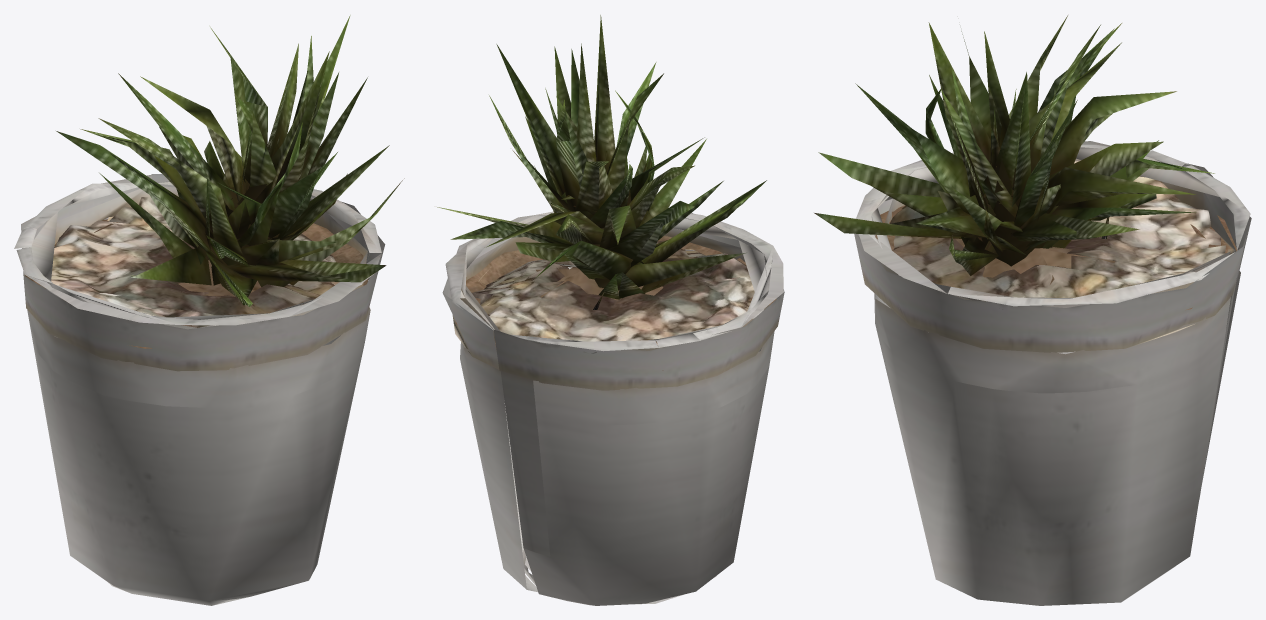
File: potted_plant_04.gltf
3 renders of one model, left to right at view 1: azimuth 30°, elevation 25°; view 2: azimuth 150°, elevation 25°; view 3: azimuth 270°, elevation 25°, orthographic. The views are drawn at different scales.
Visible parts, largest first — view 1: potted_plant_04; view 2: potted_plant_04; view 3: potted_plant_04.
Boxes of the visible parts, x1,y1,x2,y2 form: potted_plant_04: (14,15,404,605); potted_plant_04: (437,15,784,605); potted_plant_04: (814,15,1251,605).
Bounding box in the file's own units: 0.1679 × 0.2687 × 0.1863.
1 material, 1 textured.
